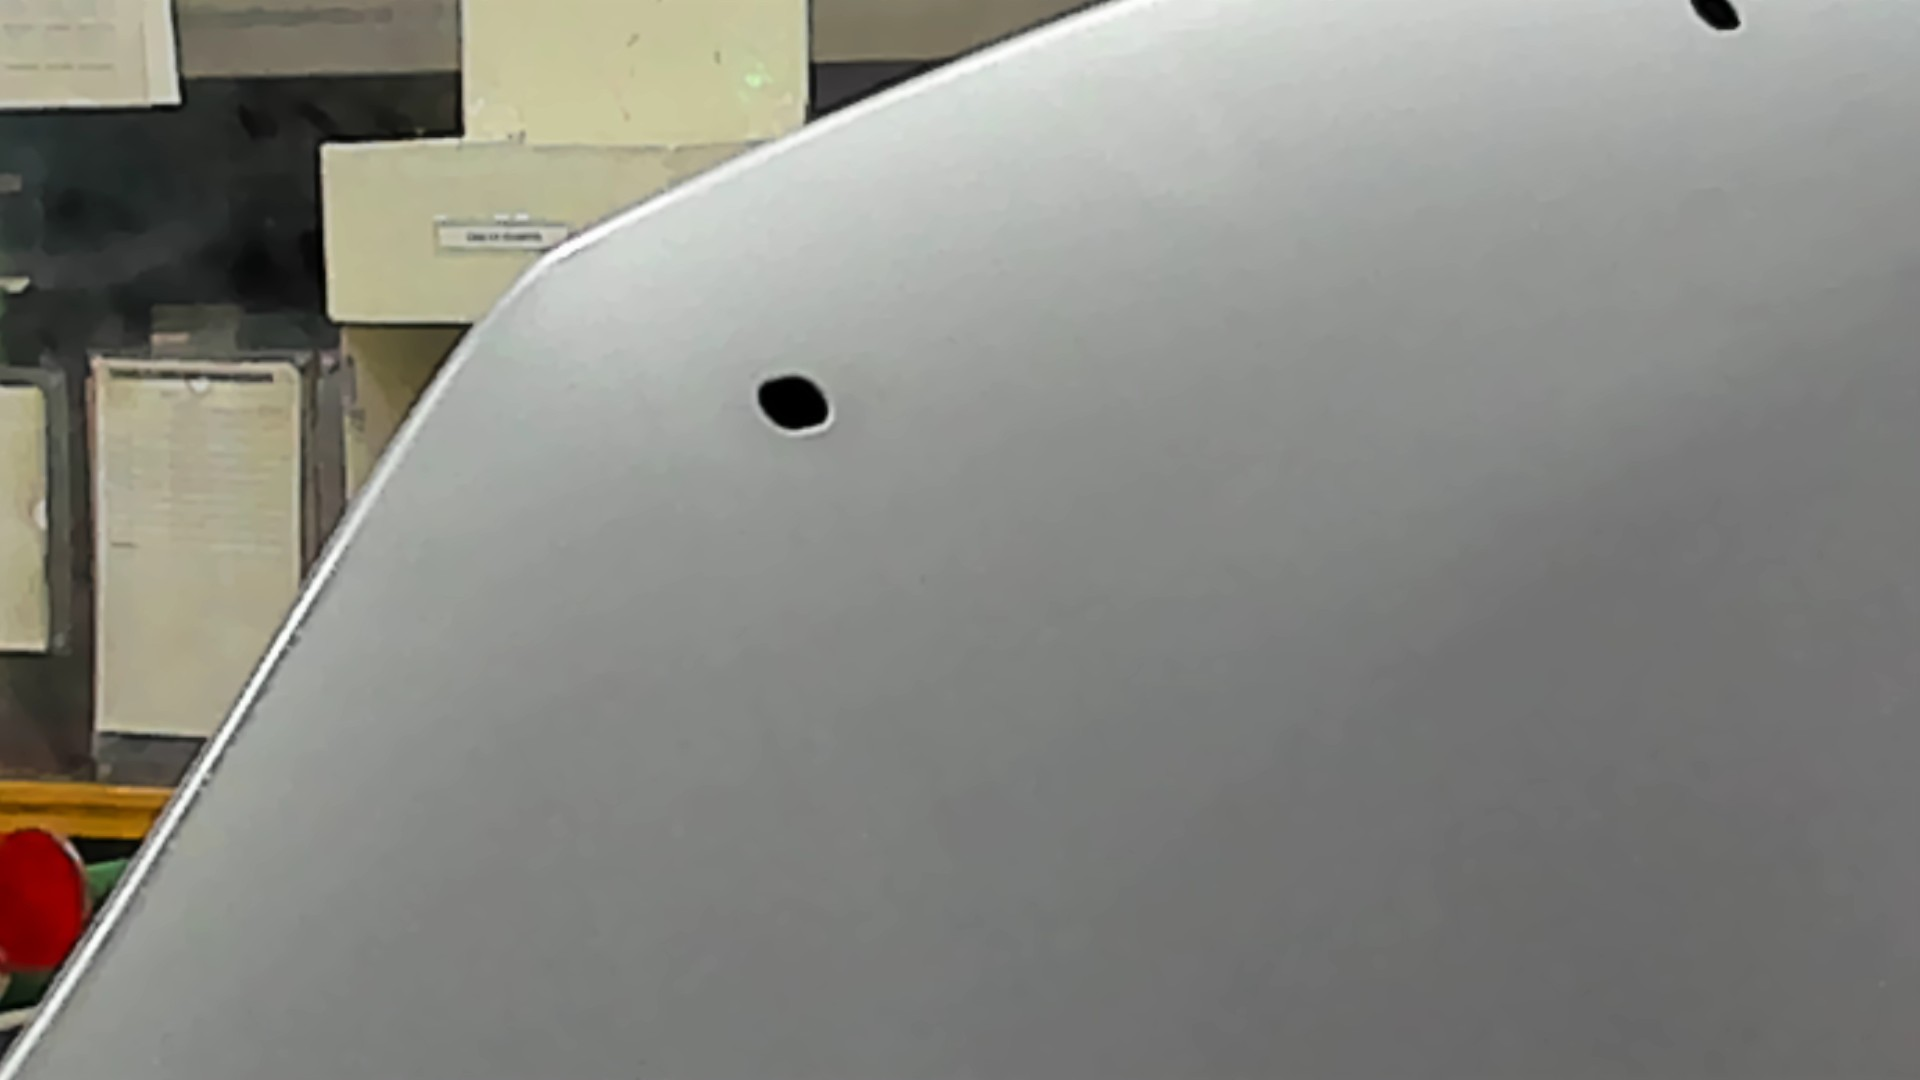amorfo: (748, 363, 837, 436), (1683, 1, 1747, 37)
capo: (960, 105, 1920, 1080)
